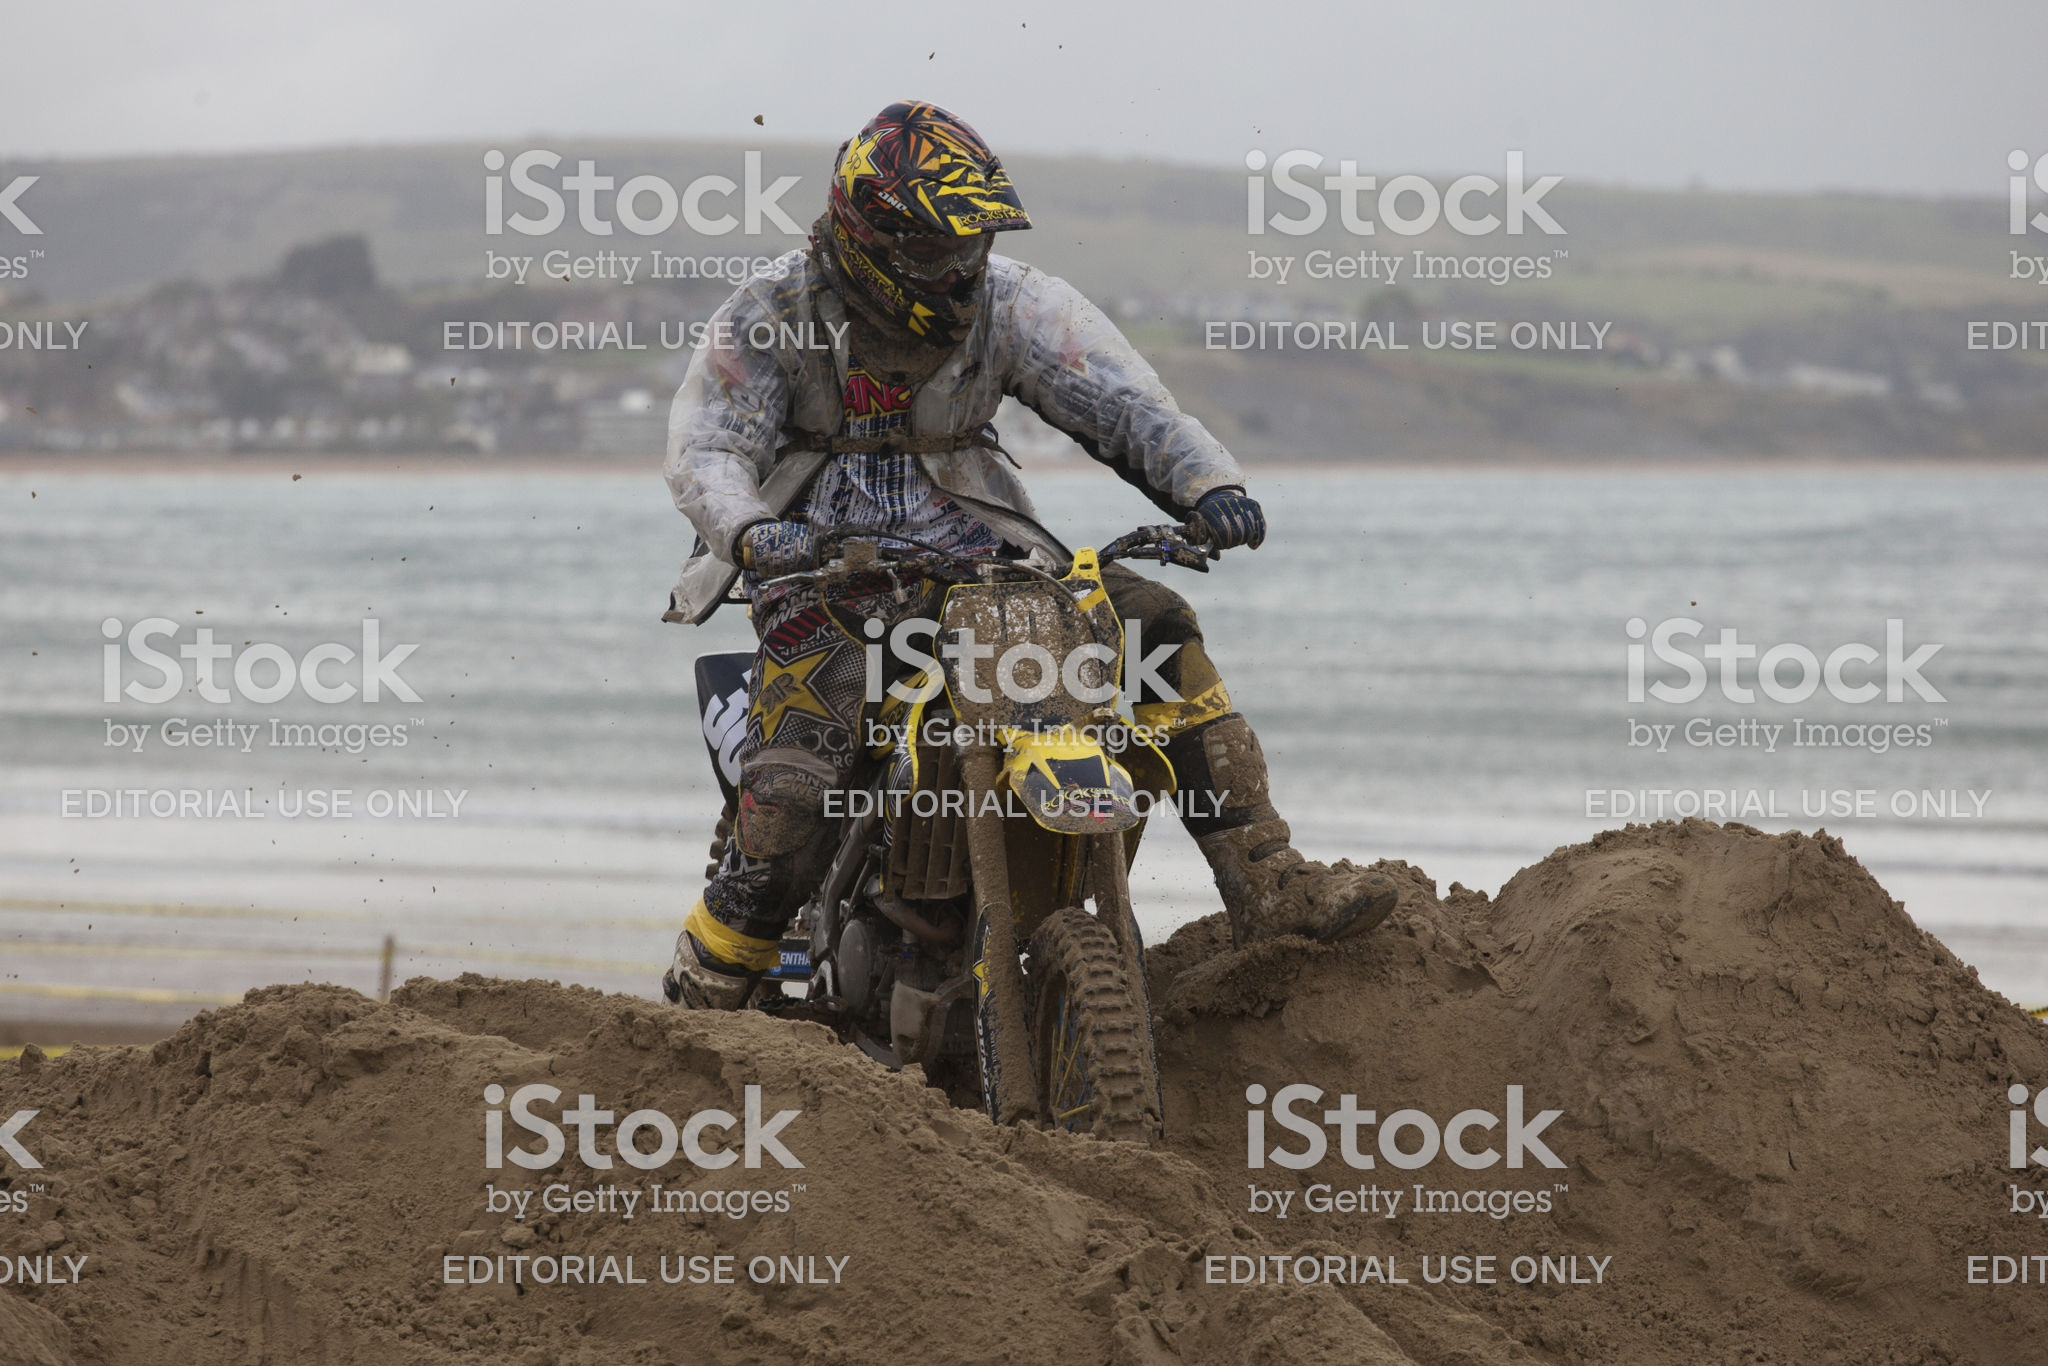helmet: (824, 102, 1048, 357)
